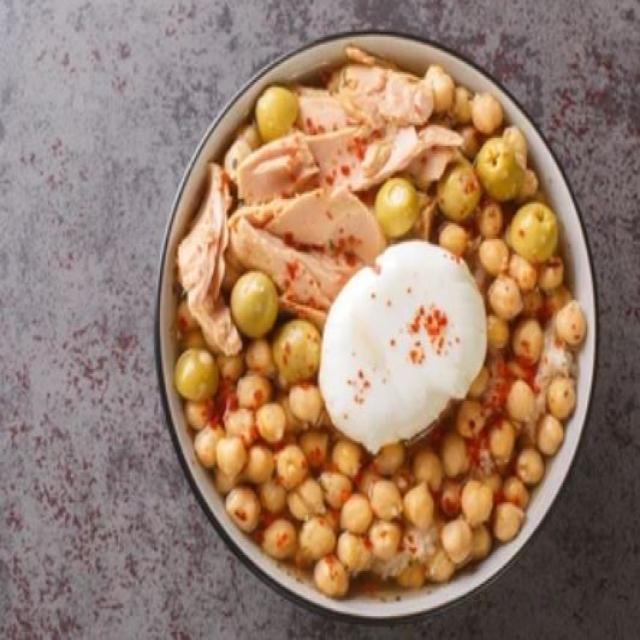Lablabi: (61, 22, 609, 640)
